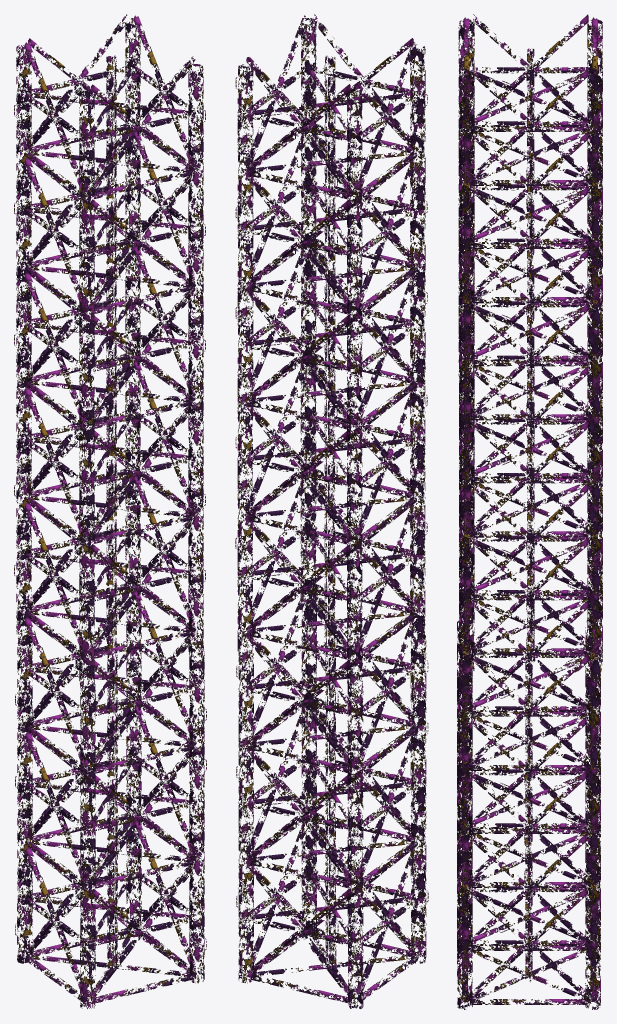
Rendered from oilRig_dream.fbx.
The picture shows the model from 3 angles, left to right: view 1: azimuth 30°, elevation 25°; view 2: azimuth 150°, elevation 25°; view 3: azimuth 270°, elevation 25°; orthographic projection.
Visible parts, largest first — view 1: oilrigpier03.001, oilrigpier02.001, oilrigpier01.001, oilrigpier00.001; view 2: oilrigpier03.001, oilrigpier02.001, oilrigpier01.001, oilrigpier00.001; view 3: oilrigpier03.001, oilrigpier02.001, oilrigpier01.001, oilrigpier00.001.
Part boxes in pixels (x1=…): oilrigpier03.001: x1=14, y1=14, x2=205, y2=420; oilrigpier02.001: x1=14, y1=328, x2=205, y2=686; oilrigpier01.001: x1=15, y1=602, x2=206, y2=940; oilrigpier00.001: x1=15, y1=860, x2=206, y2=1008; oilrigpier03.001: x1=235, y1=14, x2=427, y2=420; oilrigpier02.001: x1=235, y1=330, x2=427, y2=685; oilrigpier01.001: x1=236, y1=600, x2=428, y2=939; oilrigpier00.001: x1=238, y1=860, x2=428, y2=1008; oilrigpier03.001: x1=458, y1=14, x2=602, y2=403; oilrigpier02.001: x1=459, y1=348, x2=602, y2=674; oilrigpier01.001: x1=457, y1=620, x2=600, y2=937; oilrigpier00.001: x1=457, y1=879, x2=600, y2=1009.
Bounding box in the file's own units: 28.11 × 202 × 28.43.
